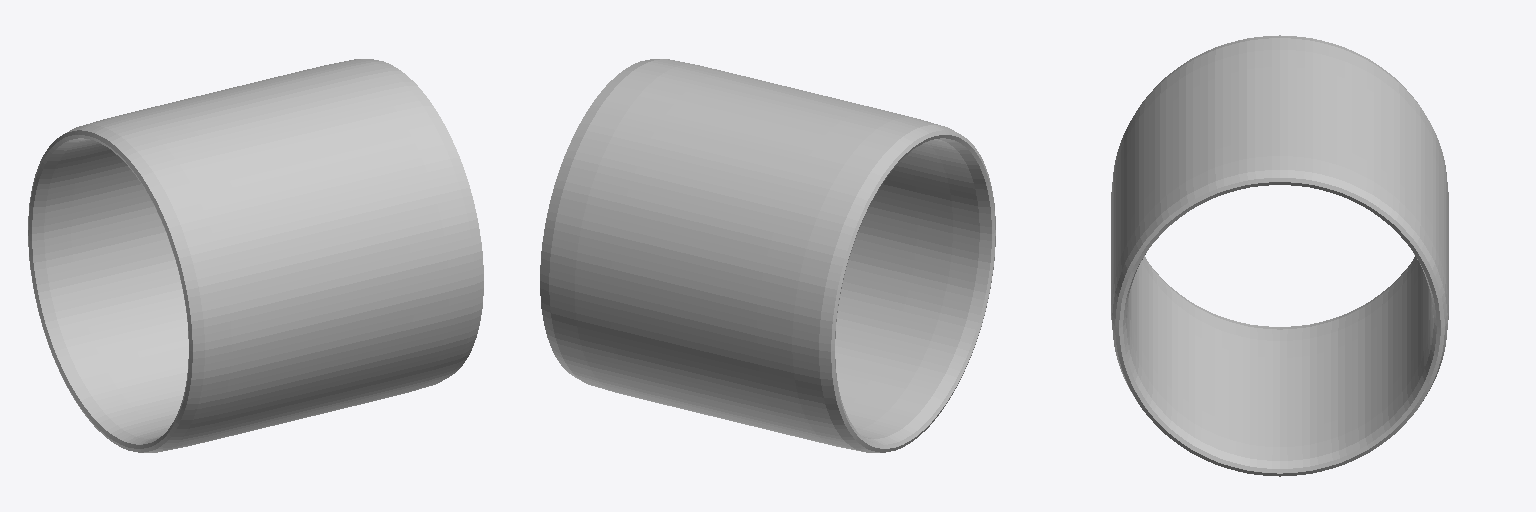
The model's file is tubestr.obj.
The picture shows the model from 3 angles: view 1: azimuth 30°, elevation 25°; view 2: azimuth 150°, elevation 25°; view 3: azimuth 270°, elevation 25°; orthographic projection.
Visible parts, largest first — view 1: Straight_Cylinder.002; view 2: Straight_Cylinder.002; view 3: Straight_Cylinder.002.
Part boxes in pixels (x1,y1,x2,y2): Straight_Cylinder.002: (28, 59, 483, 452); Straight_Cylinder.002: (540, 59, 995, 452); Straight_Cylinder.002: (1111, 35, 1448, 476).
Bounding box in the file's own units: 2 × 1.99 × 1.99.